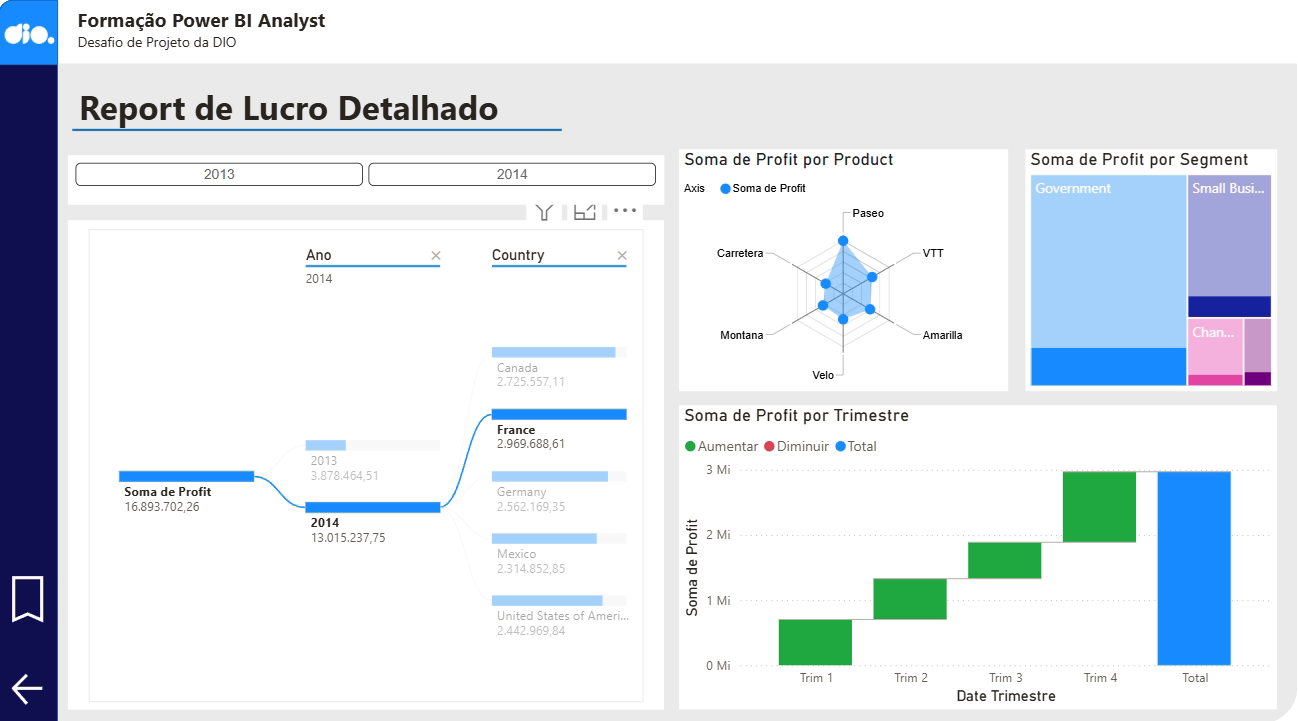

This screenshot's page, from the dashboard's own definition file:
{"tool":"powerbi","page":{"name":"Página 2","canvas":[1280,720],"ordinal":1},"visuals":[{"type":"shape","box":[42.6,20.7,1225.3,699.3],"z":0},{"type":"shape","box":[83.9,127.8,473,37.1],"z":0,"group":"g1"},{"type":"textbox","box":[85.3,97.6,470.2,52.2],"z":1000,"group":"g1"},{"type":"shape","box":[12.4,20.2,57.7,699.8],"z":1000},{"type":"shape","box":[12.4,20.6,57.7,63.2],"z":2000},{"type":"image","box":[13.7,33,57.7,39.9],"z":3000},{"type":"shape","title":"Fundo do Título","box":[71.5,20.6,1198.9,61.9],"z":4000},{"type":"textbox","title":"Título do report","box":[83.9,22,378.1,63.2],"z":5000},{"type":"shape","box":[79.7,233.7,576.1,473],"z":6000},{"type":"decompositionTreeVisual","fields":{"Analyze":["Sum(financials.Profit)"],"ExplainBy":["financials.Date.Variation.Hierarquia de datas.Ano","financials.Country"]},"box":[99.8,242.2,536.3,456.5],"z":7000},{"type":"waterfallChart","fields":{"Category":["financials.Date.Variation.Hierarquia de datas.Trimestre"],"Y":["Sum(financials.Profit)"]},"box":[670.9,412.5,577.4,294.2],"z":8000},{"type":"ChicletSlicer1448559807354","fields":{"Category":["financials.Date.Variation.Hierarquia de datas.Ano"]},"box":[79.7,170.5,576.1,48.1],"z":9000},{"type":"RadarChart1446119667547","fields":{"Category":["financials.Product"],"Y":["Sum(financials.Profit)"]},"box":[670.9,165,317.6,233.7],"z":10000},{"type":"treemap","fields":{"Values":["Sum(financials.Profit)"],"Group":["financials.Segment"]},"box":[1005,165,243.4,233.7],"z":11000},{"type":"actionButton","box":[22,666.8,48.1,39.9],"z":12000},{"type":"group","id":"g1","title":"Sales report","box":[83.9,97.6,473,67.4],"z":13000},{"type":"actionButton","box":[12.8,545.8,57,105.5],"z":14000}]}

Visuals, with their boxes on the page's 1280x720 design canvas (x1, y1, x2, y2). These are canvas units, not pixel positions in the 1298x721 screenshot, which may show the page scaled, cropped or inside an application window:
shape: (43,21,1268,720)
shape: (84,128,557,165)
textbox: (85,98,556,150)
shape: (12,20,70,720)
shape: (12,21,70,84)
image: (14,33,71,73)
"Fundo do Título" shape: (72,21,1270,82)
"Título do report" textbox: (84,22,462,85)
shape: (80,234,656,707)
decompositionTreeVisual - Sum(financials.Profit) x financials.Date.Variation.Hierarquia de datas.Ano: (100,242,636,699)
waterfallChart - financials.Date.Variation.Hierarquia de datas.Trimestre x Sum(financials.Profit): (671,412,1248,707)
ChicletSlicer1448559807354 - financials.Date.Variation.Hierarquia de datas.Ano: (80,170,656,219)
RadarChart1446119667547 - financials.Product x Sum(financials.Profit): (671,165,988,399)
treemap - Sum(financials.Profit) x financials.Segment: (1005,165,1248,399)
actionButton: (22,667,70,707)
"Sales report" group: (84,98,557,165)
actionButton: (13,546,70,651)
